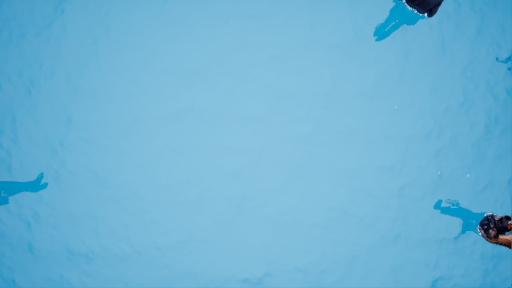person: (439, 194, 512, 253)
